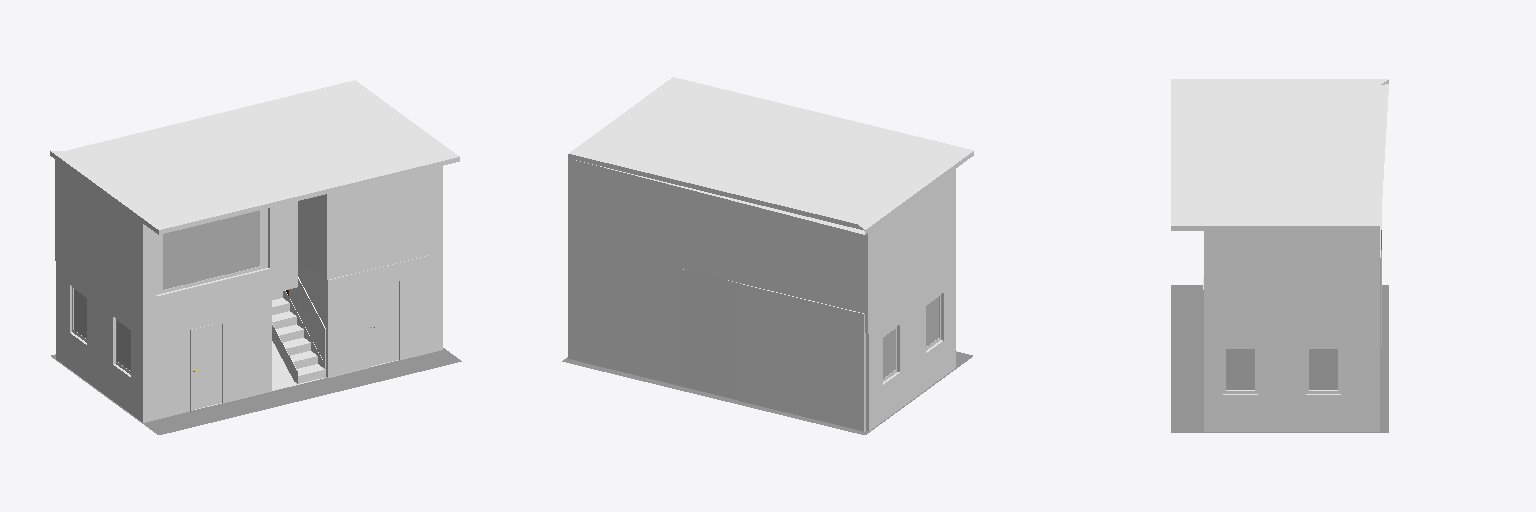
File: Salon.obj
3 views of the same model, side by side, from view 1: azimuth 30°, elevation 25°; view 2: azimuth 150°, elevation 25°; view 3: azimuth 270°, elevation 25° (orthographic).
Parts seen in each view (by area): view 1: room_23_113, wall_14_82, wall_2_11, wall_11_64, wall_7_41, wall_1_5, sweethome3d_window_pane_on_hinge_1_315, wall_10_58, ground_1, sweethome3d_opening_on_hinge_1_door_290, sweethome3d_opening_on_hinge_1_door_179, wall_16_95 (+7 smaller); view 2: room_23_113, wall_12_70, wall_4_23, wall_9_53, wall_11_64, wall_5_28, wall_1_5, ground_1, sweethome3d_window_pane_on_hinge_1_162, sweethome3d_window_pane_on_hinge_1_170; view 3: room_23_113, wall_13_76, wall_8_47, ground_1, sweethome3d_window_pane_on_hinge_1_298, sweethome3d_window_pane_on_hinge_1_306.
Boxes of the visible parts, box(x1,y1,x2,y2) form: room_23_113: box(50, 80, 459, 234); wall_14_82: box(327, 166, 442, 279); wall_2_11: box(143, 294, 271, 422); wall_11_64: box(55, 159, 142, 323); wall_7_41: box(328, 252, 442, 377); wall_1_5: box(56, 262, 142, 421); sweethome3d_window_pane_on_hinge_1_315: box(163, 210, 259, 289); wall_10_58: box(143, 201, 297, 324); ground_1: box(51, 348, 461, 434); sweethome3d_opening_on_hinge_1_door_290: box(370, 281, 398, 366); sweethome3d_opening_on_hinge_1_door_179: box(193, 325, 221, 409); wall_16_95: box(298, 194, 326, 278); room_23_113: box(568, 77, 973, 234); wall_12_70: box(568, 158, 867, 333); wall_4_23: box(739, 284, 864, 431); wall_9_53: box(568, 241, 680, 385); wall_11_64: box(868, 169, 955, 333); wall_5_28: box(681, 269, 739, 400); wall_1_5: box(868, 270, 955, 430); ground_1: box(562, 351, 972, 434); sweethome3d_window_pane_on_hinge_1_162: box(926, 297, 938, 346); sweethome3d_window_pane_on_hinge_1_170: box(883, 329, 895, 378); room_23_113: box(1171, 79, 1388, 230); wall_13_76: box(1204, 231, 1379, 333); wall_8_47: box(1204, 334, 1379, 431); ground_1: box(1171, 285, 1388, 432); sweethome3d_window_pane_on_hinge_1_298: box(1226, 349, 1254, 389); sweethome3d_window_pane_on_hinge_1_306: box(1309, 349, 1337, 389).
Bounding box in the file's own units: 811 × 524 × 505.